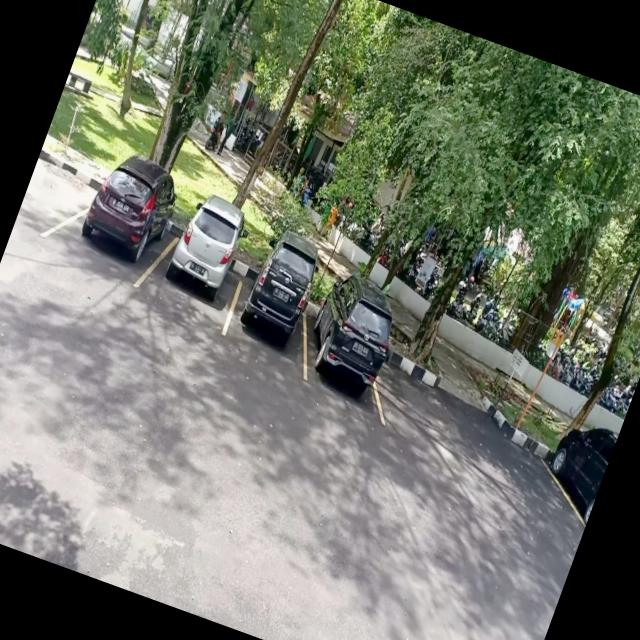occupied: (146, 210, 260, 327), (292, 294, 406, 407), (70, 166, 182, 276), (220, 252, 326, 362)
